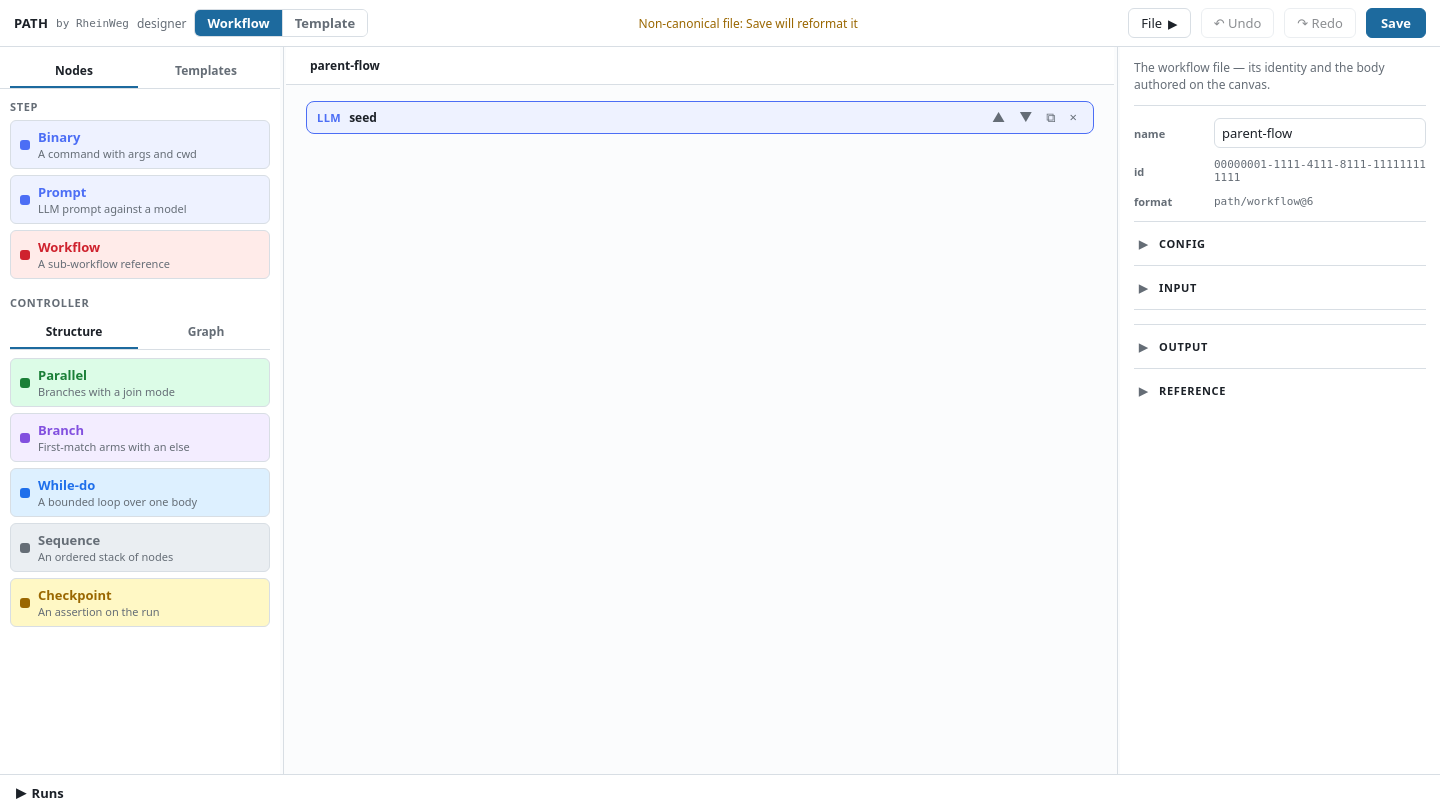
it: adding a workflow-ref offers reference-existing or create-new › double-clicking an unset workflow block opens the same chooser
Expected: the text "seed" is shown, x1=349 y1=109 x2=377 y2=126
Click the text "Workflow".
click(69, 247)  # box x1=38 y1=238 x2=100 y2=256
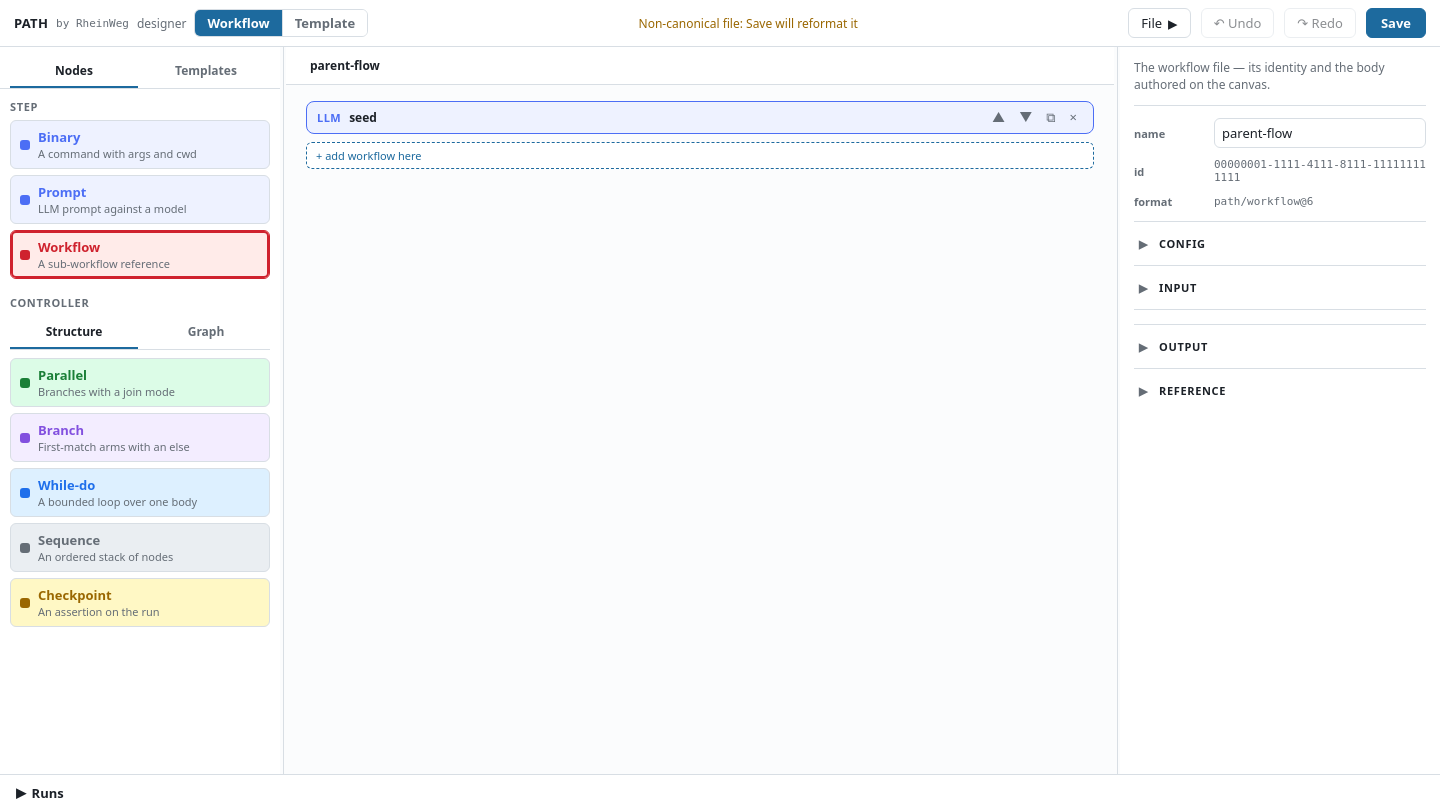
Click the button "+ add workflow here".
click(369, 156)  # box x1=306 y1=142 x2=1094 y2=169
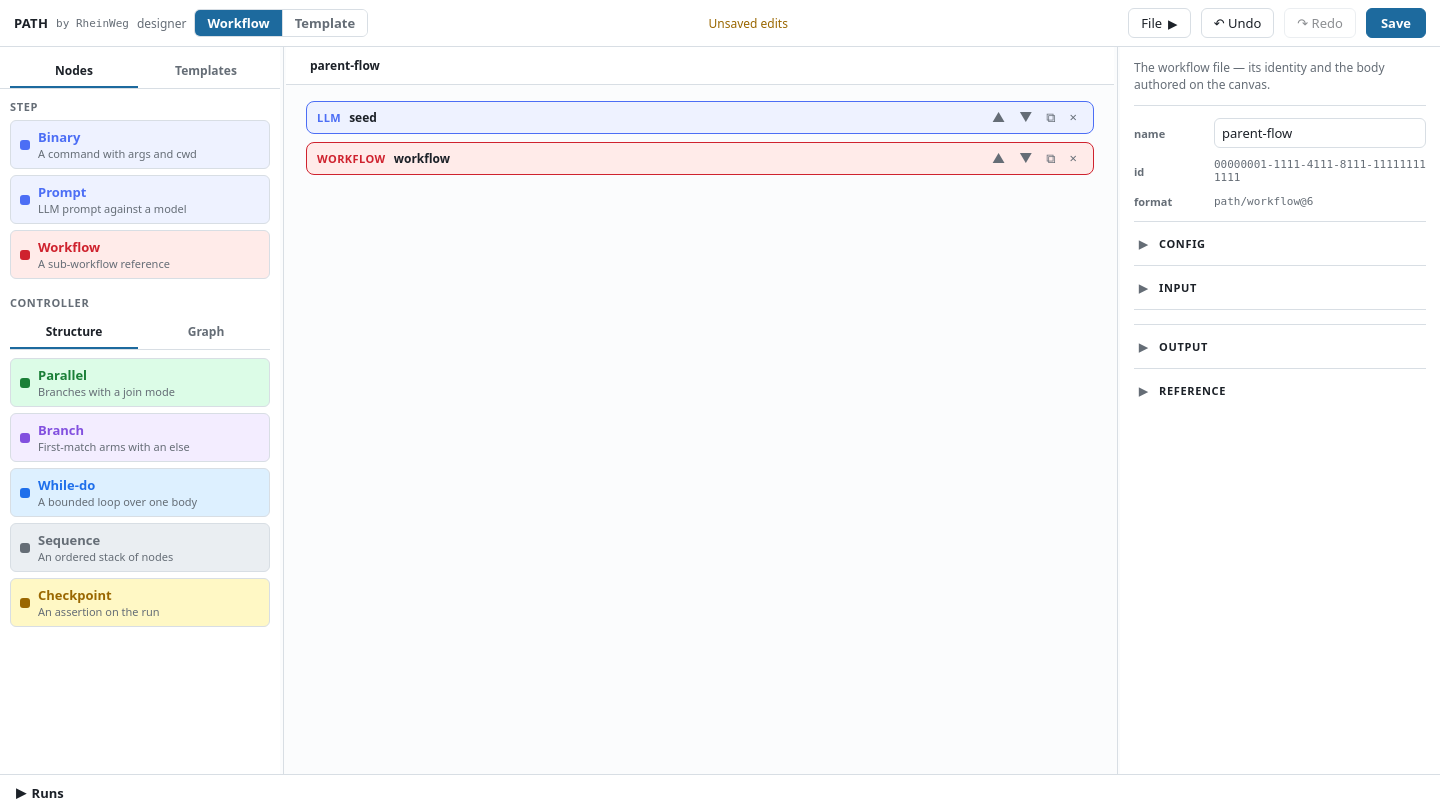
Click the button "WORKFLOW workflow ▲ ▼ ⧉ ×".
click(351, 158)  # box x1=306 y1=142 x2=1094 y2=175
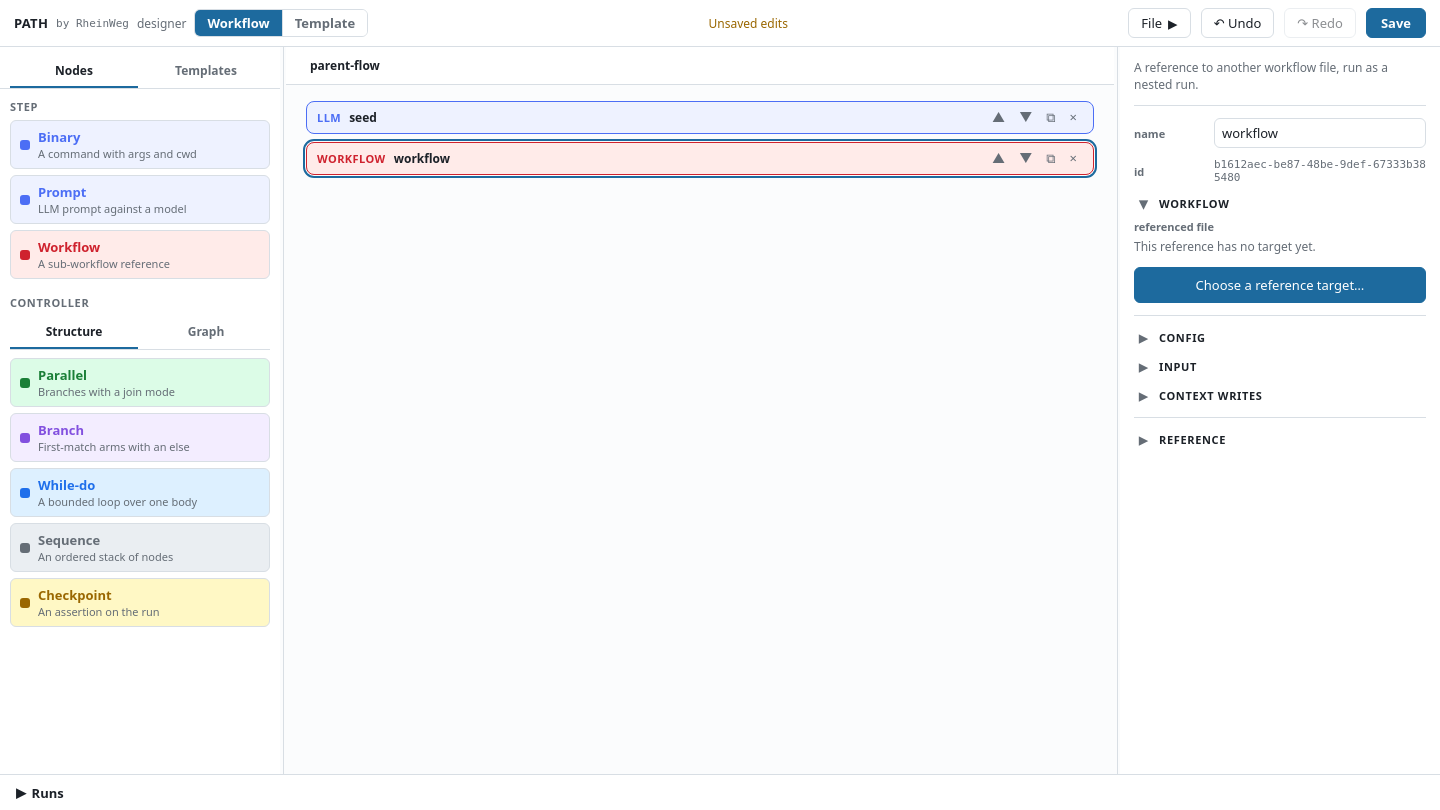
Double-click the button "WORKFLOW workflow ▲ ▼ ⧉ ×".
double_click(351, 158)  # box x1=306 y1=142 x2=1094 y2=175
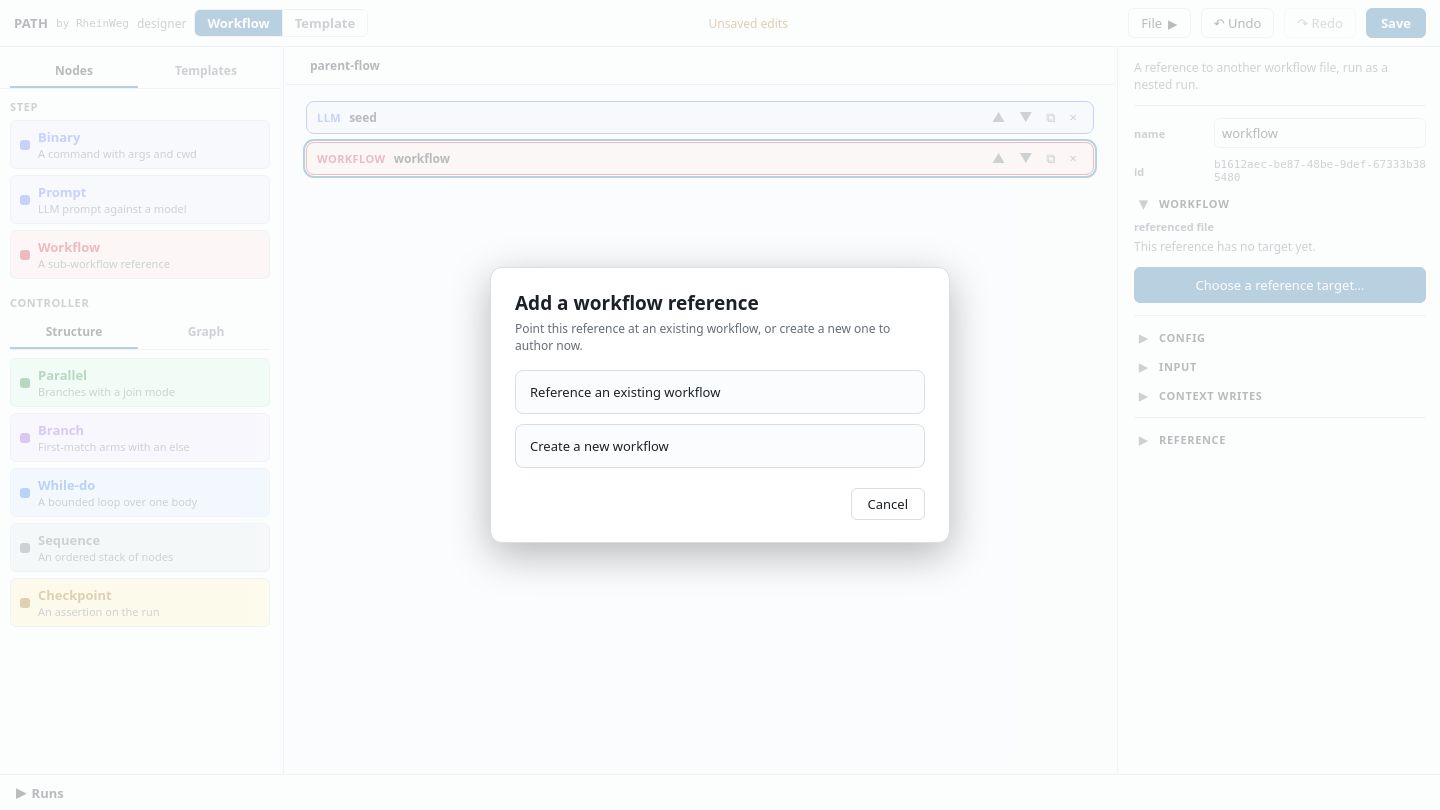
Expected: the button "Create a new workflow" is shown, x1=515 y1=424 x2=925 y2=468
